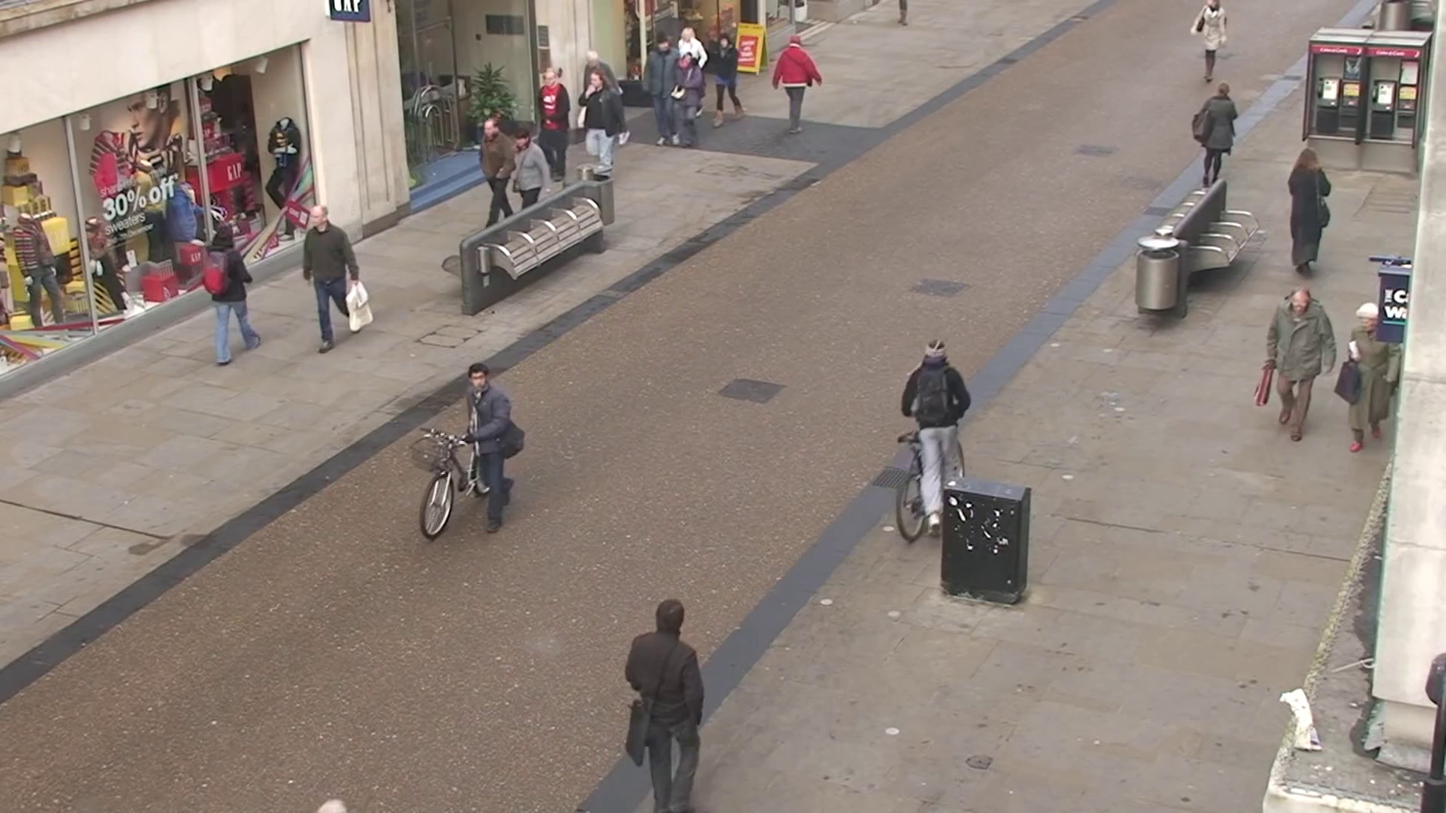person: (624, 599, 706, 812), (899, 339, 972, 518), (1272, 285, 1337, 446), (463, 362, 526, 525), (198, 222, 266, 367), (1335, 303, 1400, 452), (302, 207, 360, 352), (1286, 142, 1335, 277), (772, 32, 823, 137), (581, 64, 627, 178), (1191, 81, 1239, 187), (477, 114, 520, 226), (644, 32, 683, 147), (538, 62, 572, 184), (703, 30, 745, 123), (510, 135, 548, 212)
